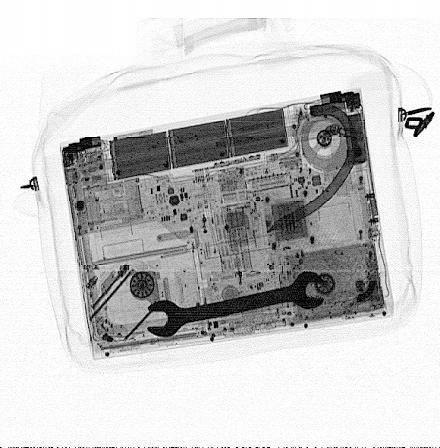Wrench: (148, 270, 326, 339)
